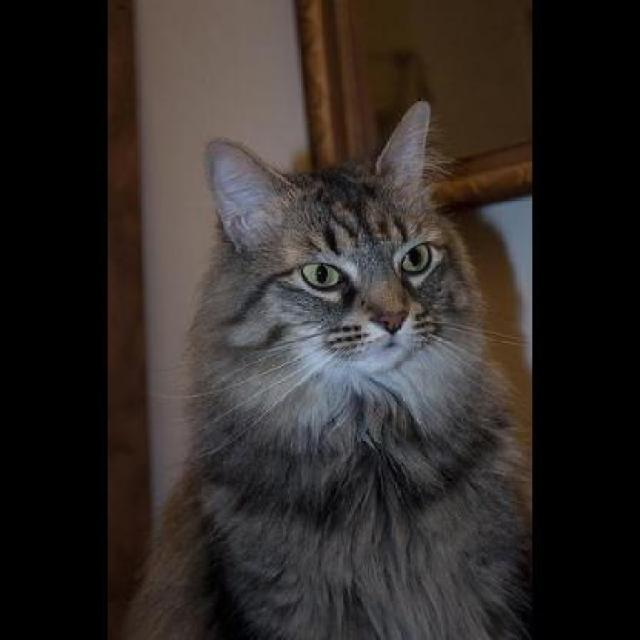unauthorized: (114, 97, 532, 638)
